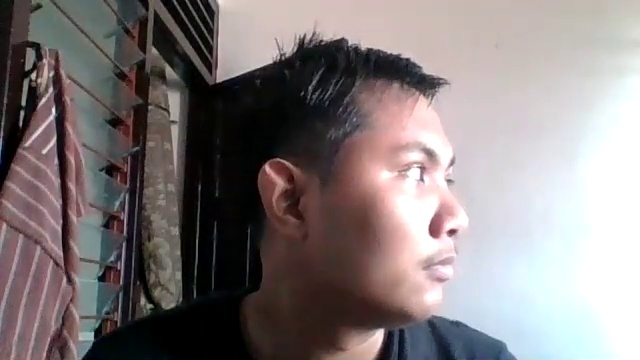Distracted: (245, 51, 478, 324)
